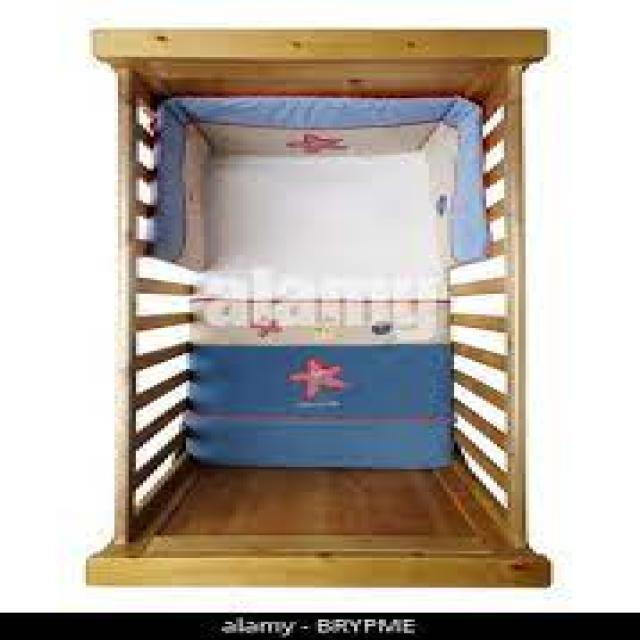baby: (282, 355, 347, 403)
crib: (82, 25, 554, 588)
